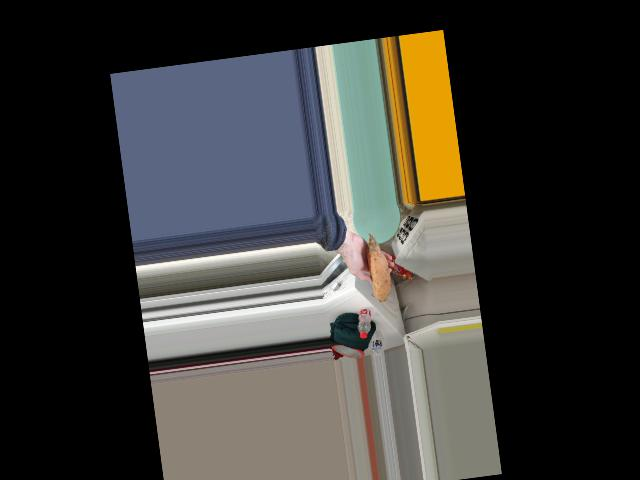sweet_potato: (362, 245, 393, 309)
